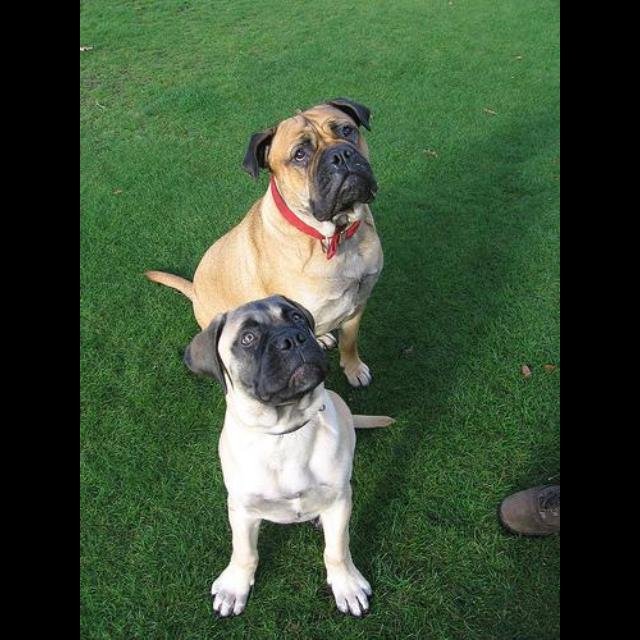bullmastiff: (143, 98, 386, 391), (183, 294, 398, 620)
